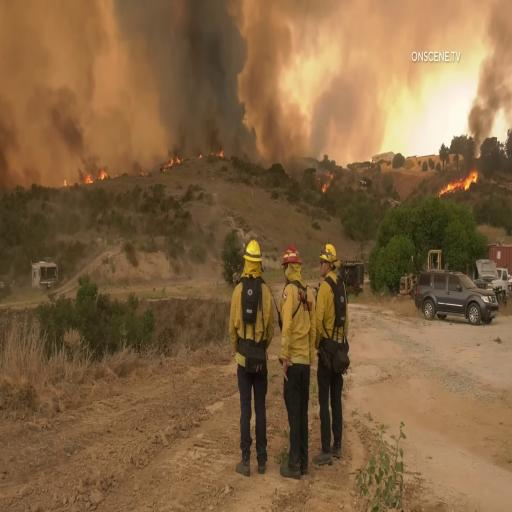smoke: (470, 49, 501, 141)
